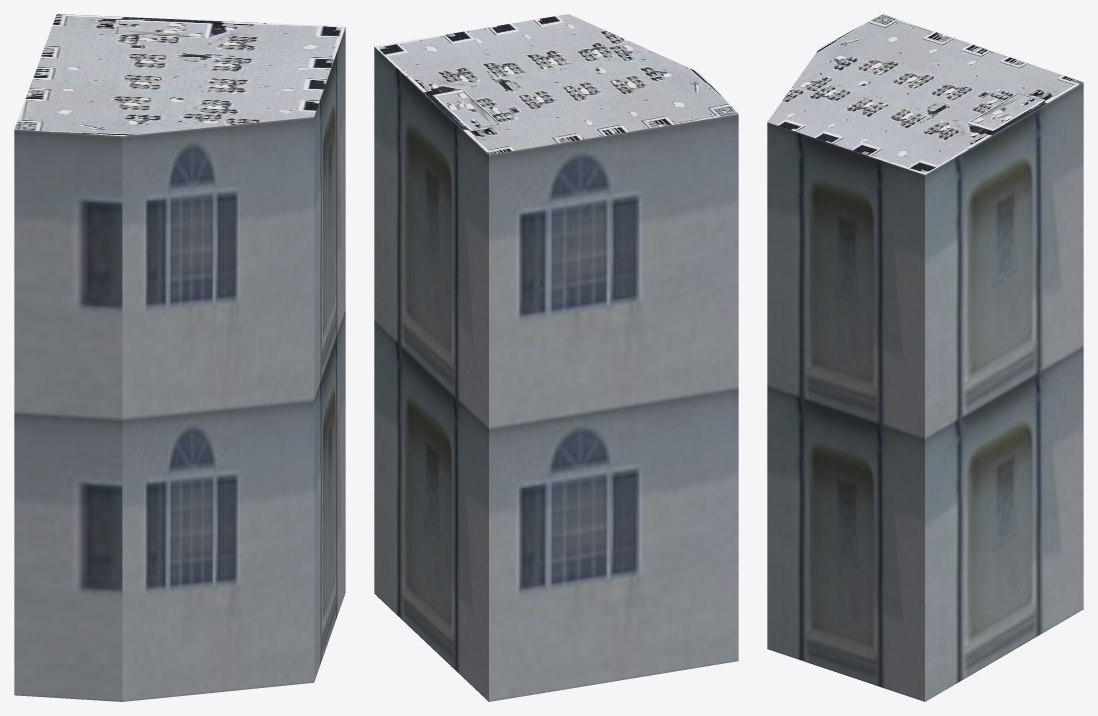
File: ResTex__973.fbx
3 renders of one model, left to right at view 1: azimuth 30°, elevation 25°; view 2: azimuth 150°, elevation 25°; view 3: azimuth 270°, elevation 25°, orthographic. The views are drawn at different scales.
Parts seen in each view (by area): view 1: CityEngineMaterial_17_m, CityEngineMaterial_m; view 2: CityEngineMaterial_17_m, CityEngineMaterial_m; view 3: CityEngineMaterial_17_m, CityEngineMaterial_m.
Boxes of the visible parts, bbox=[...] form: CityEngineMaterial_17_m: bbox=[14, 27, 345, 701]; CityEngineMaterial_m: bbox=[14, 14, 345, 136]; CityEngineMaterial_17_m: bbox=[374, 47, 738, 701]; CityEngineMaterial_m: bbox=[374, 14, 738, 154]; CityEngineMaterial_17_m: bbox=[767, 82, 1083, 701]; CityEngineMaterial_m: bbox=[767, 14, 1083, 174].
Size of the model in its own units: 3.93 by 6 by 3.27.
2 materials, 2 textured.
